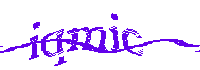c: (122, 27, 146, 58)
i: (109, 13, 120, 53), (30, 21, 39, 61)
m: (67, 25, 107, 52)
q: (40, 28, 67, 70)
